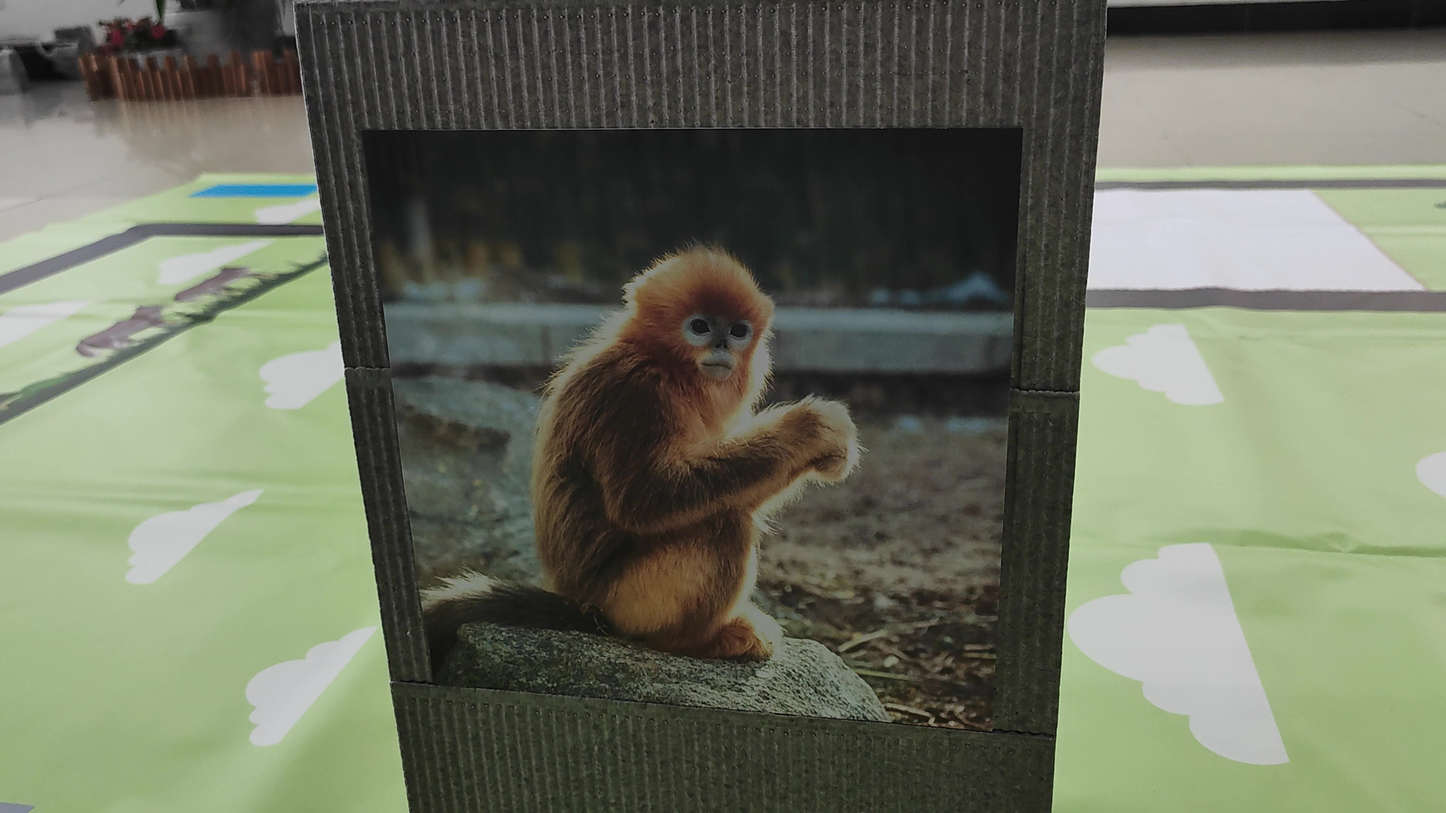monkey: (440, 221, 873, 700)
